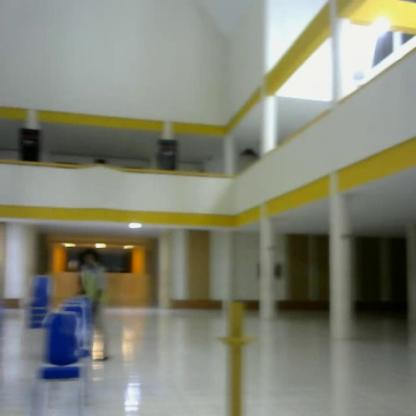pole: (216, 295, 260, 416)
